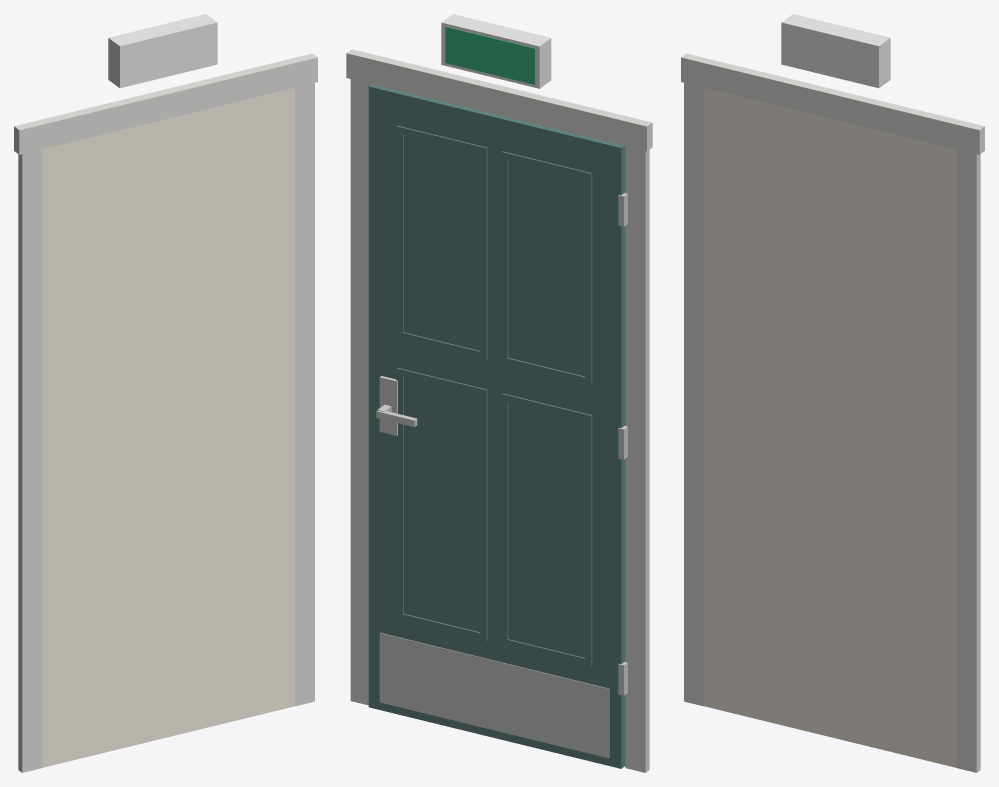
Rendered from Door.fbx.
3 renders of one model, left to right at view 1: azimuth 30°, elevation 25°; view 2: azimuth 150°, elevation 25°; view 3: azimuth 330°, elevation 25°, orthographic.
Parts seen in each view (by area): view 1: Doorway, Frame, ExitSign; view 2: Leaf, Frame, ExitSign; view 3: Doorway, Frame, ExitSign.
Part boxes in pixels (x1,y1,x2,y2): Doorway: (42, 87, 294, 767); Frame: (14, 53, 317, 772); ExitSign: (108, 14, 217, 88); Leaf: (368, 84, 627, 768); Frame: (346, 49, 652, 772); ExitSign: (441, 14, 551, 88); Doorway: (704, 87, 956, 767); Frame: (681, 53, 984, 772); ExitSign: (781, 14, 890, 88).
Size of the model in its own units: 1.04 by 2.34 by 0.106.
